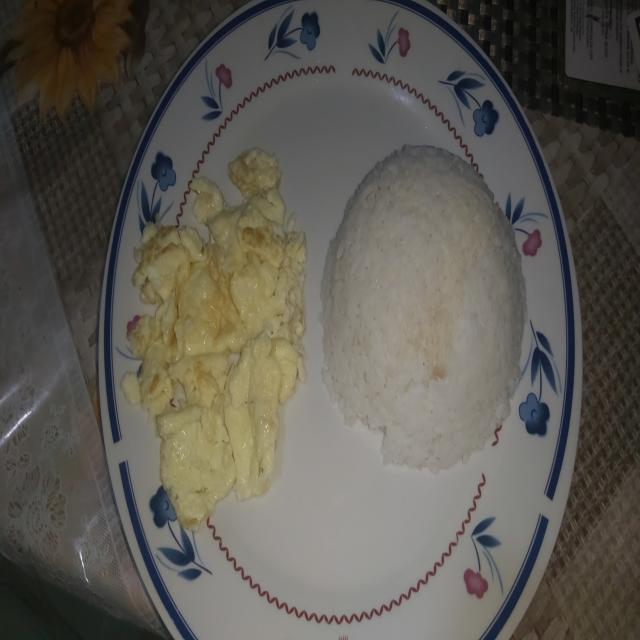Chicken -Chicken Inasal-: (322, 140, 527, 462)
